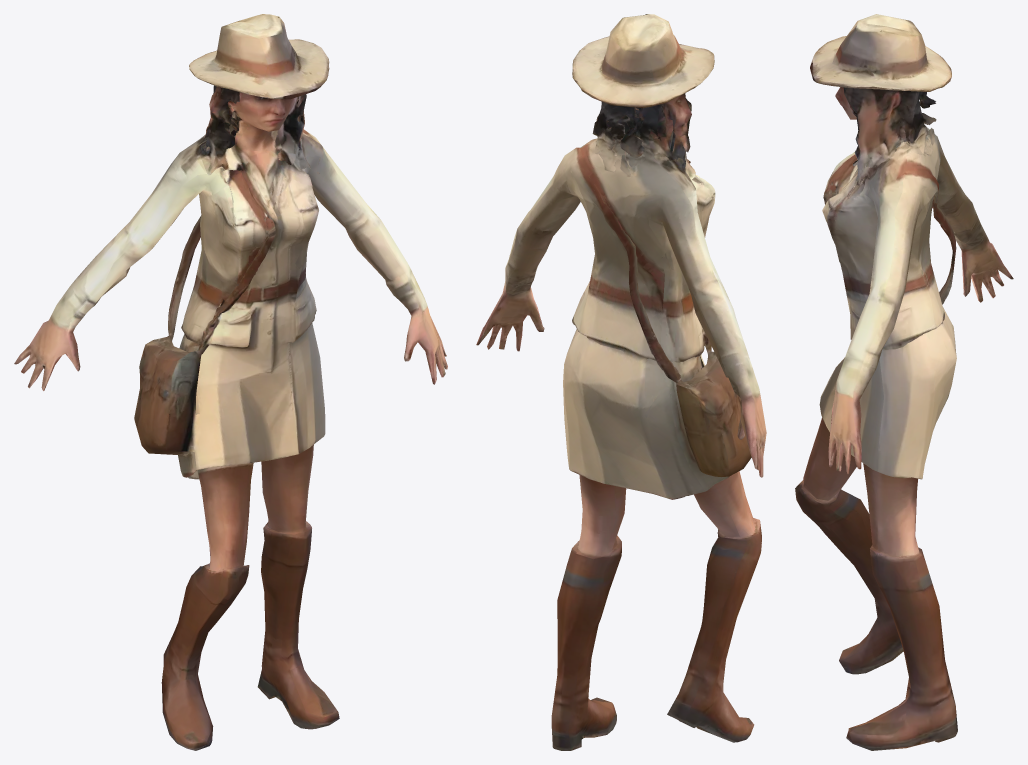
Rendered from crew-personC.glb.
3 views of the same model, side by side, from view 1: azimuth 30°, elevation 25°; view 2: azimuth 150°, elevation 25°; view 3: azimuth 270°, elevation 25° (orthographic). The views are drawn at different scales.
Parts seen in each view (by area): view 1: char1; view 2: char1; view 3: char1.
Boxes of the visible parts, x1,y1,x2,y2 form: char1: (14,14,447,750); char1: (476,14,766,750); char1: (795,14,1013,750).
Size of the model in its own units: 82.91 by 159 by 45.07.
1 material, 1 textured.
